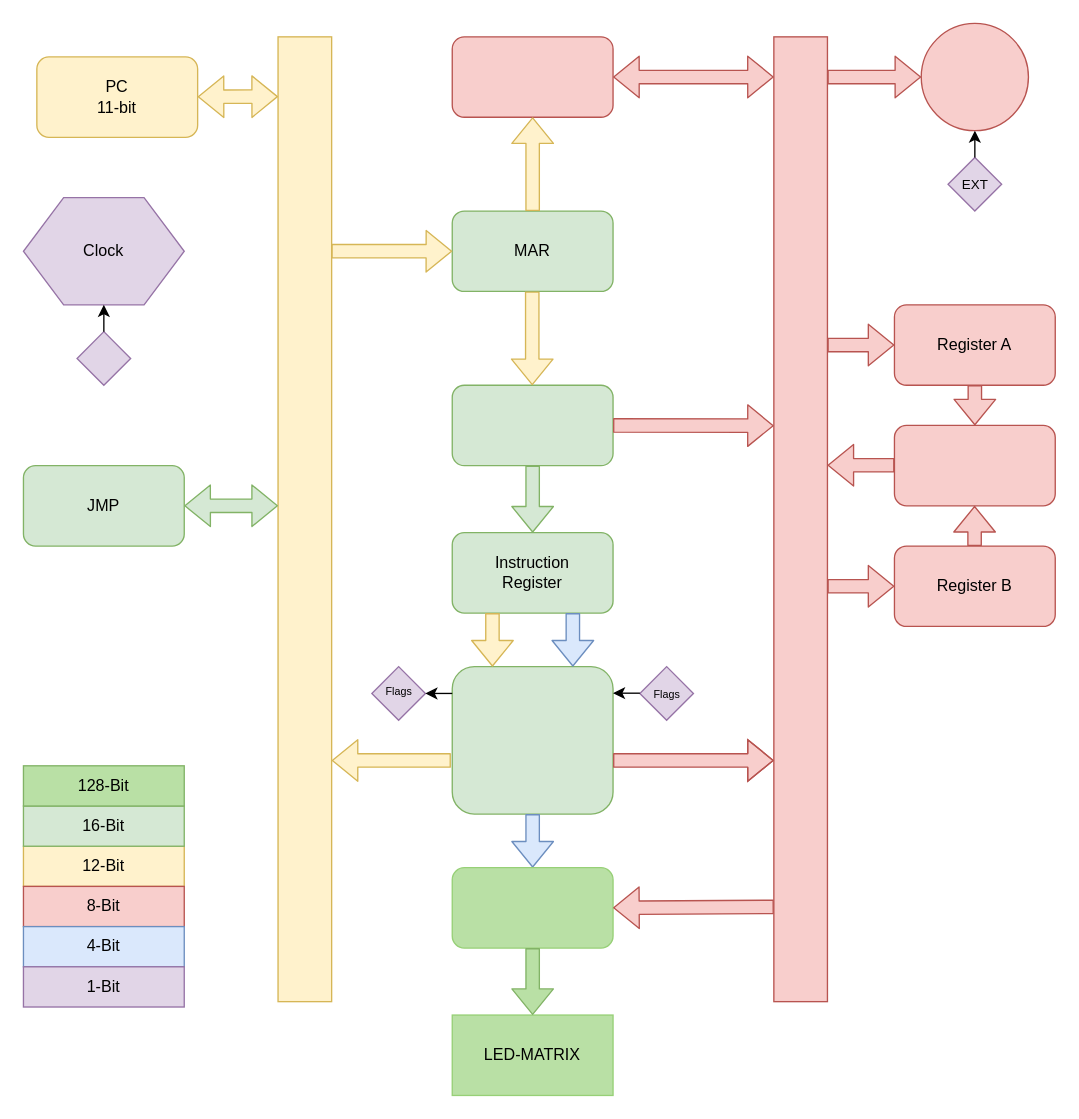
This 1079x1119 diagram has some shape labels left out. Each missing label, with the centre of its shape:
ADDRESS-BUS: (304,519)
ALU: (974,465)
Controller Sequencer: (532,739)
DATA-BUS: (800,519)
GFX Register: (532,907)
HLT: (103,357)
Parallel Output: (974,76)
RAM 16x8: (532,76)
ROM 2Kx16: (532,425)
